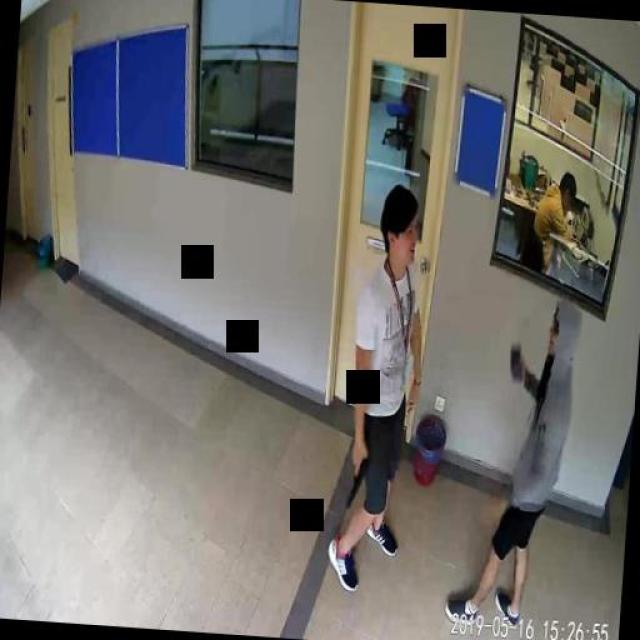gun: (344, 445, 366, 506)
